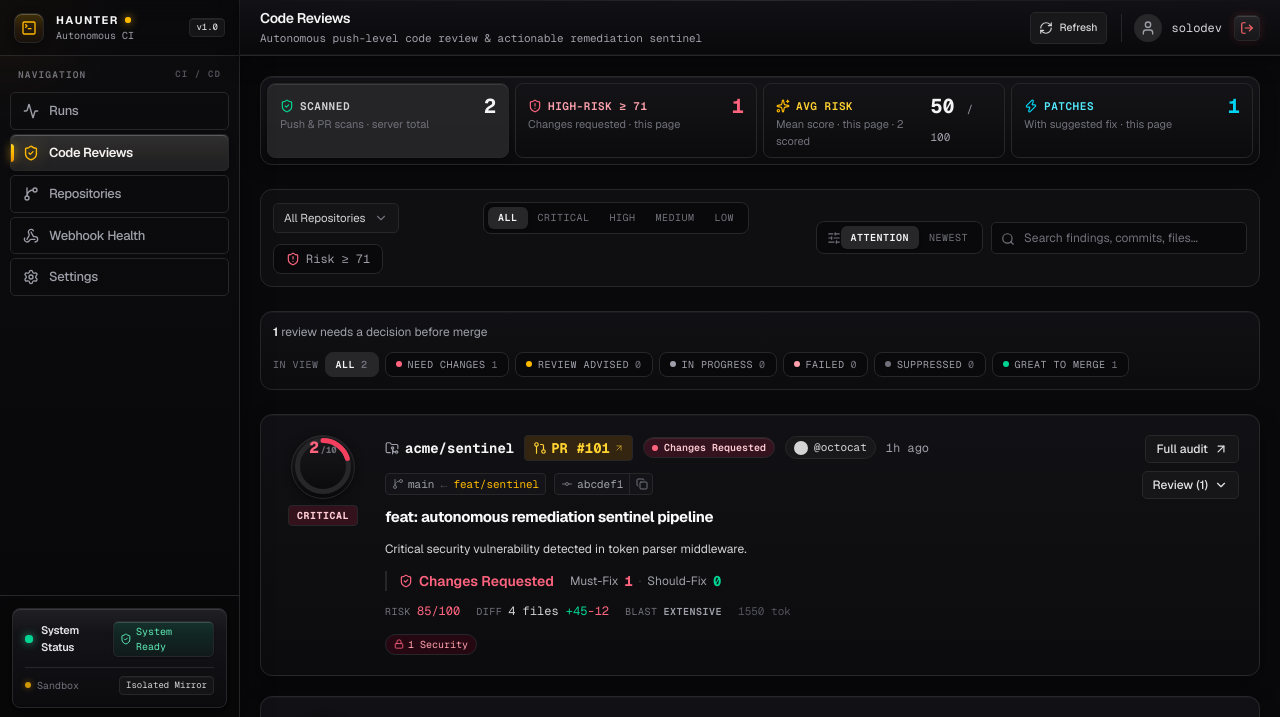
Test case: ReviewsPage (app/reviews/page.tsx) › back button and Escape return to the overview
Expected: the heading "feat: autonomous remediation sentinel pipeline" is shown, [385,507,713,526]
Step 1. Click the button "Full audit" in the row of "1h ago" → click(1192, 449), box [1145,435,1239,463]
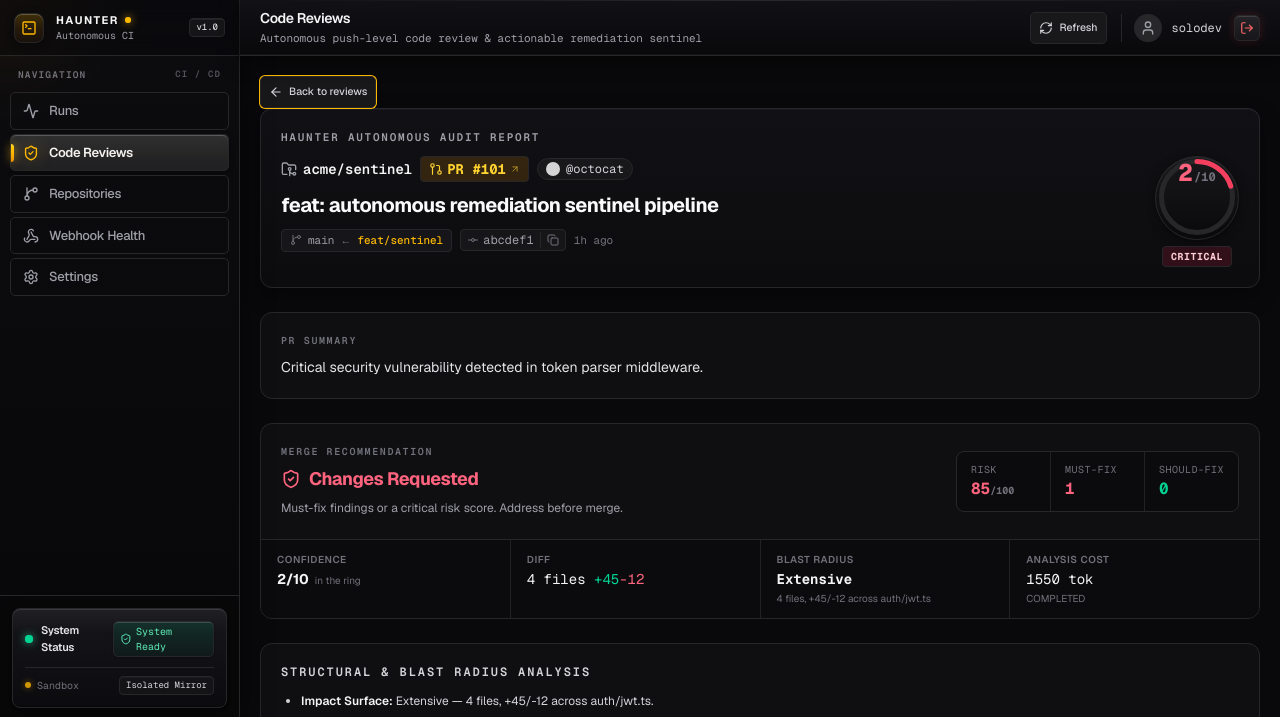
Result: the heading "PR Summary" is shown at [281,334,357,346]
Step 2. Click the button "Back to reviews" → click(318, 92), box [260,76,376,108]
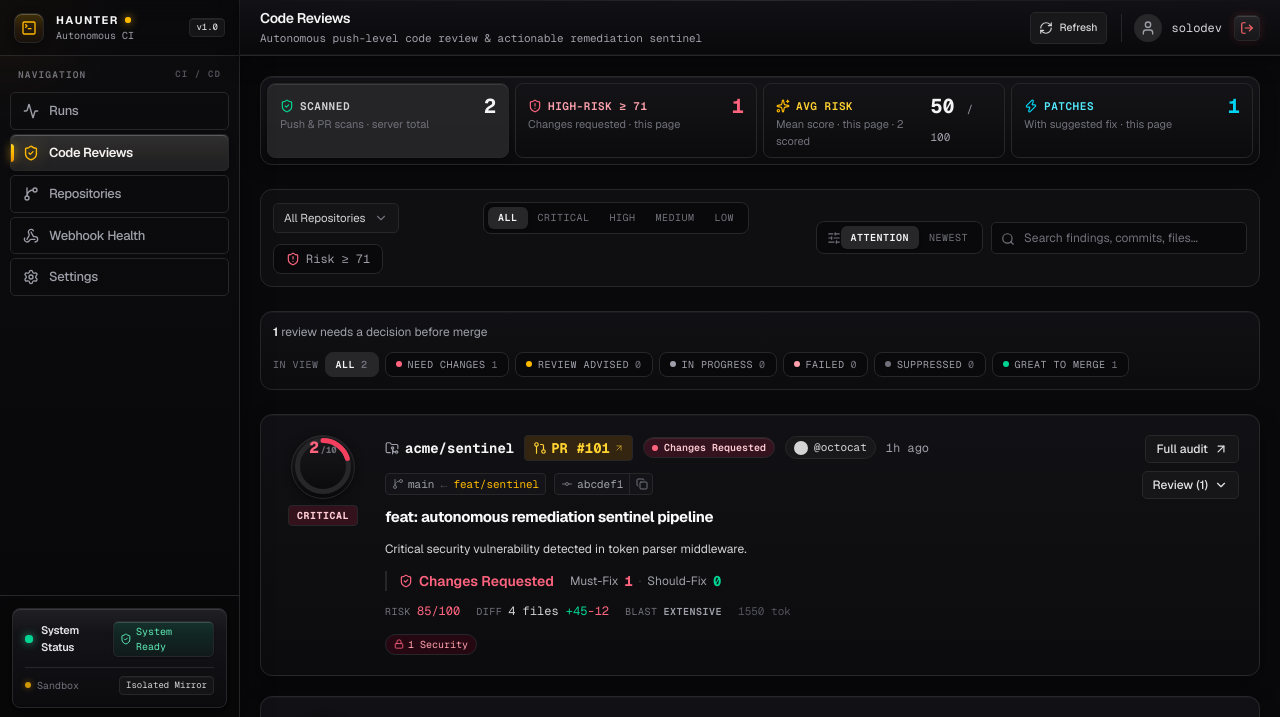
Step 3. Click the button "Full audit" in the row of "1h ago" → click(1192, 449), box [1145,435,1239,463]
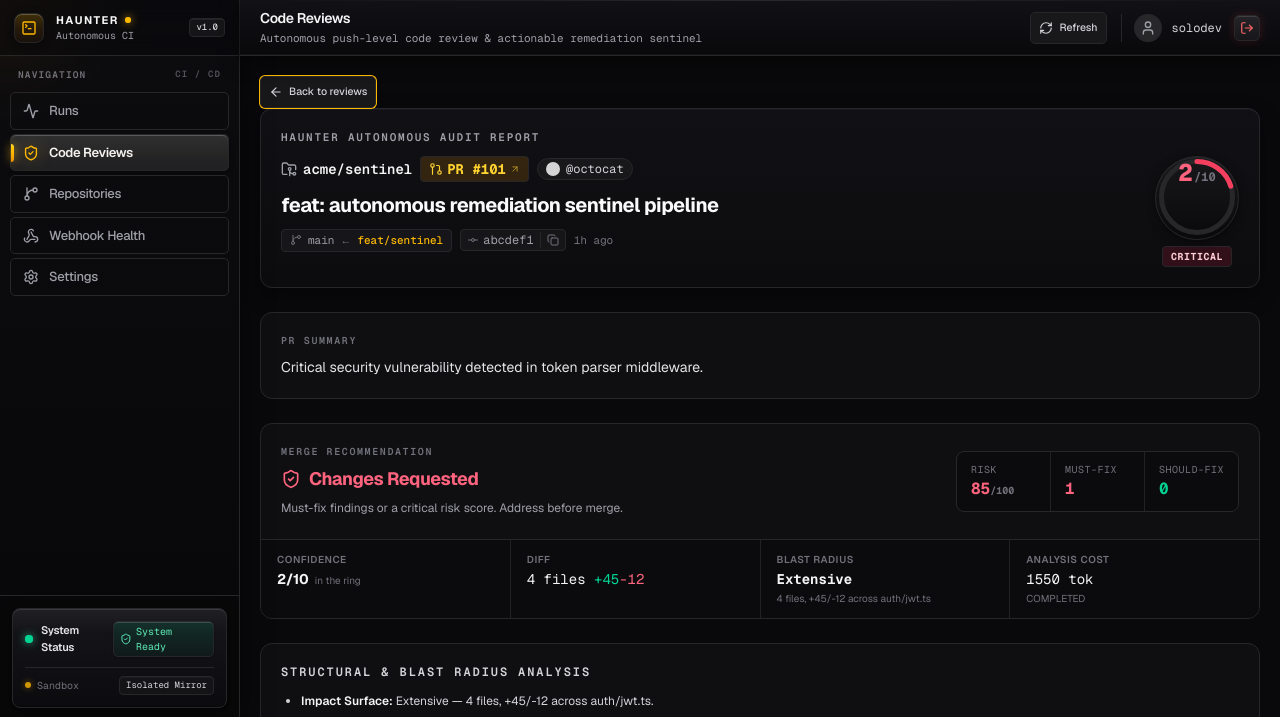
Result: the heading "PR Summary" is shown at [281,334,357,346]
Step 4. Press Escape
(page scrolled)
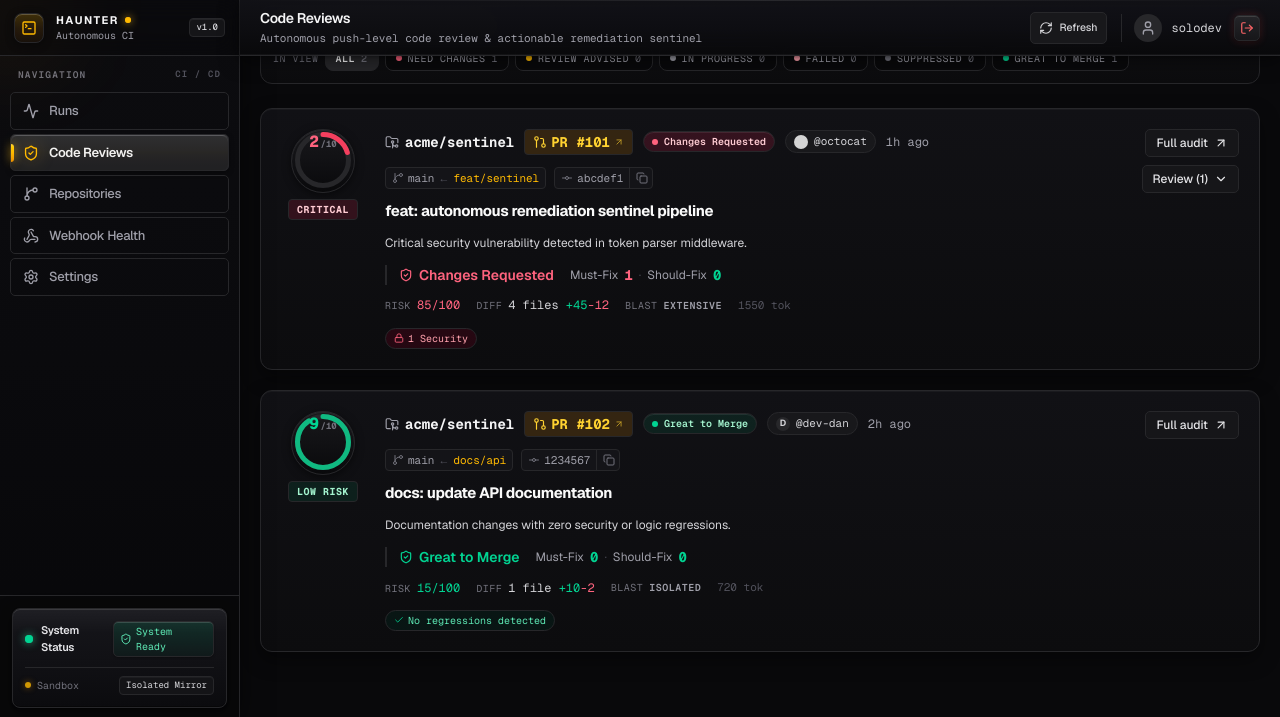
Result: the heading "docs: update API documentation" is shown at [385,483,612,502]
